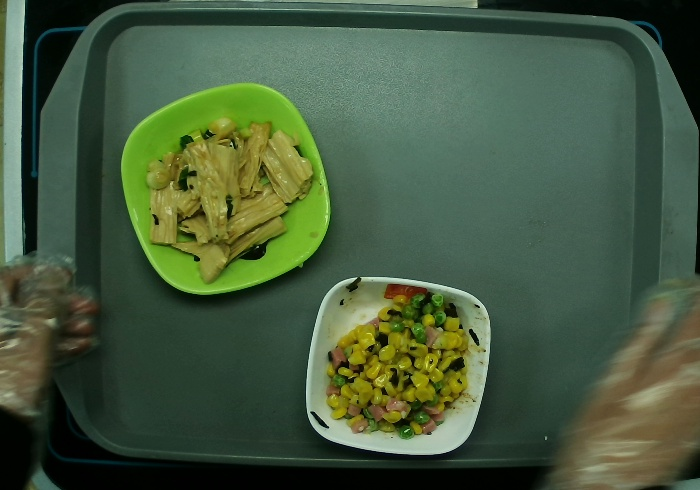SHKJ-Bai_Se_Xiao_Fang_Die: (305, 275, 495, 459)
SHKJ-Lv_Se_Cai_Die: (121, 81, 332, 298)
